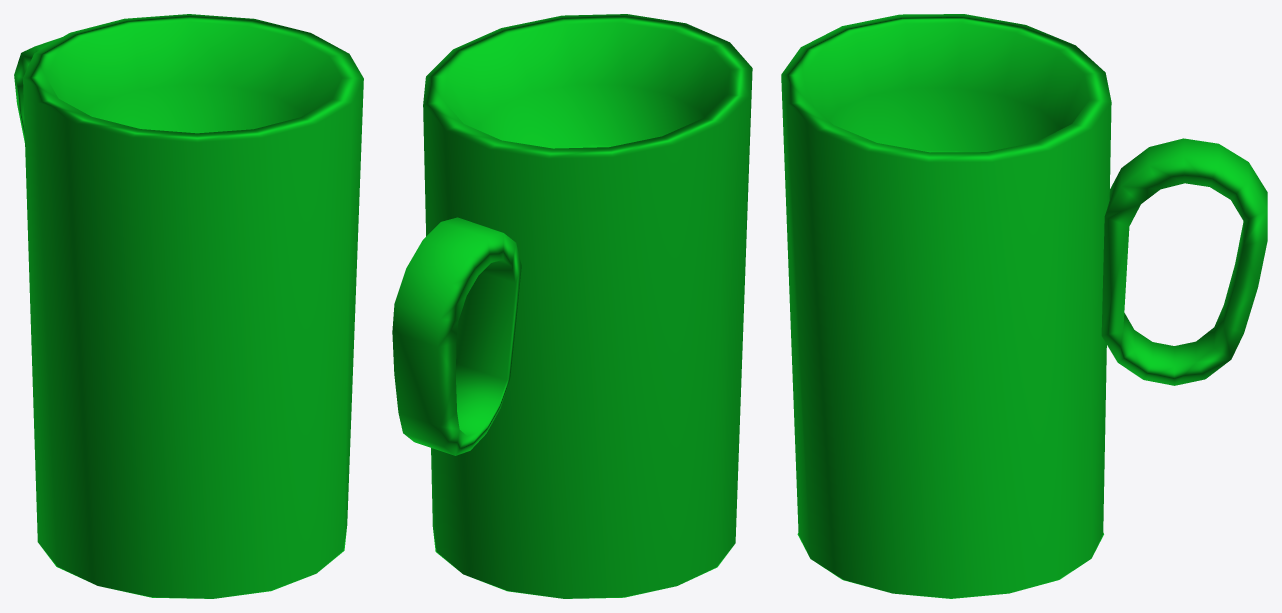
Rendered from Taza07.fbx.
3 views of the same model, side by side, from view 1: azimuth 30°, elevation 25°; view 2: azimuth 150°, elevation 25°; view 3: azimuth 270°, elevation 25° (orthographic). The views are drawn at different scales.
Visible parts, largest first — view 1: Taza07; view 2: Taza07; view 3: Taza07.
Boxes of the visible parts, left/top/right/bottom form: Taza07: left=14, top=14, right=363, bottom=598; Taza07: left=392, top=14, right=752, bottom=598; Taza07: left=781, top=14, right=1267, bottom=598.
Size of the model in its own units: 13.33 by 20.16 by 19.64.
